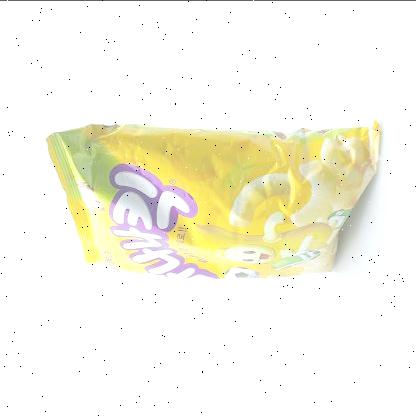Others: (41, 101, 390, 293)
